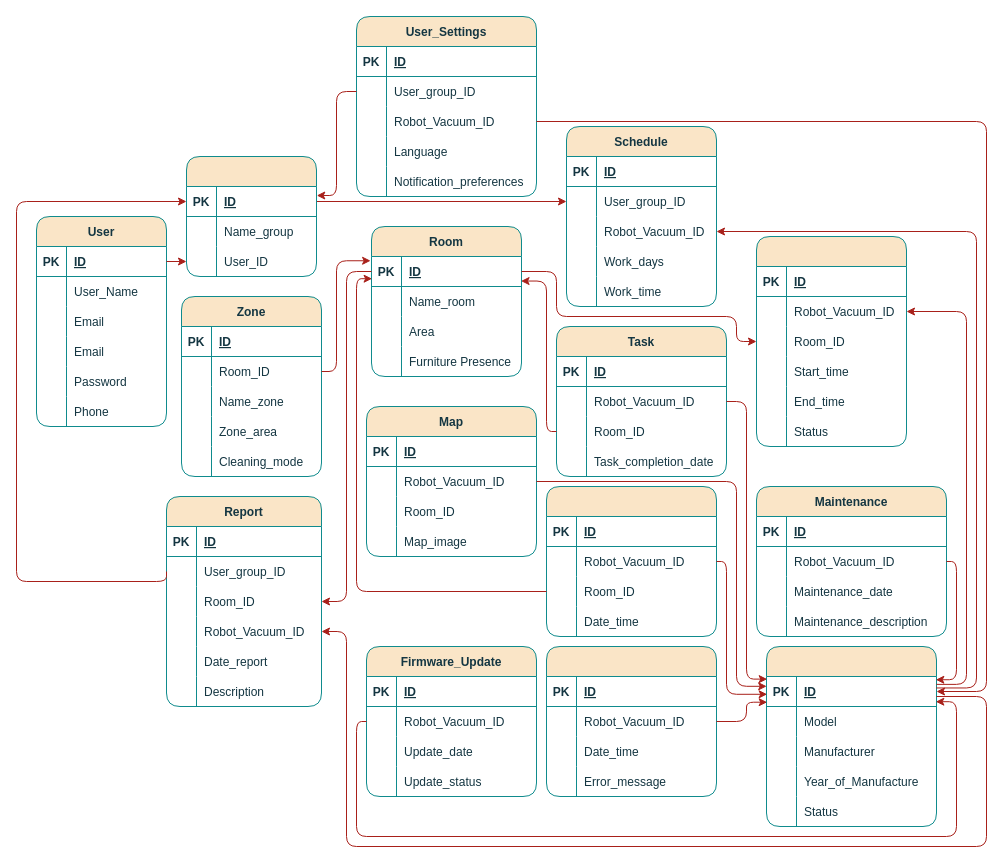
The diagram is 1003 pixels wide and 863 high, and some of its shapes have lost their labels. The shapes that lost their labels are listed below. From the top down, each one's box as (x1, y1, x2, y2) in pixels, then its label:
(186, 156, 316, 276): User_group
(756, 236, 906, 446): Cleaning_Session
(546, 486, 716, 636): Cleaning_History
(546, 646, 716, 796): ErrorLog
(766, 646, 936, 826): Robot_Vacuum
